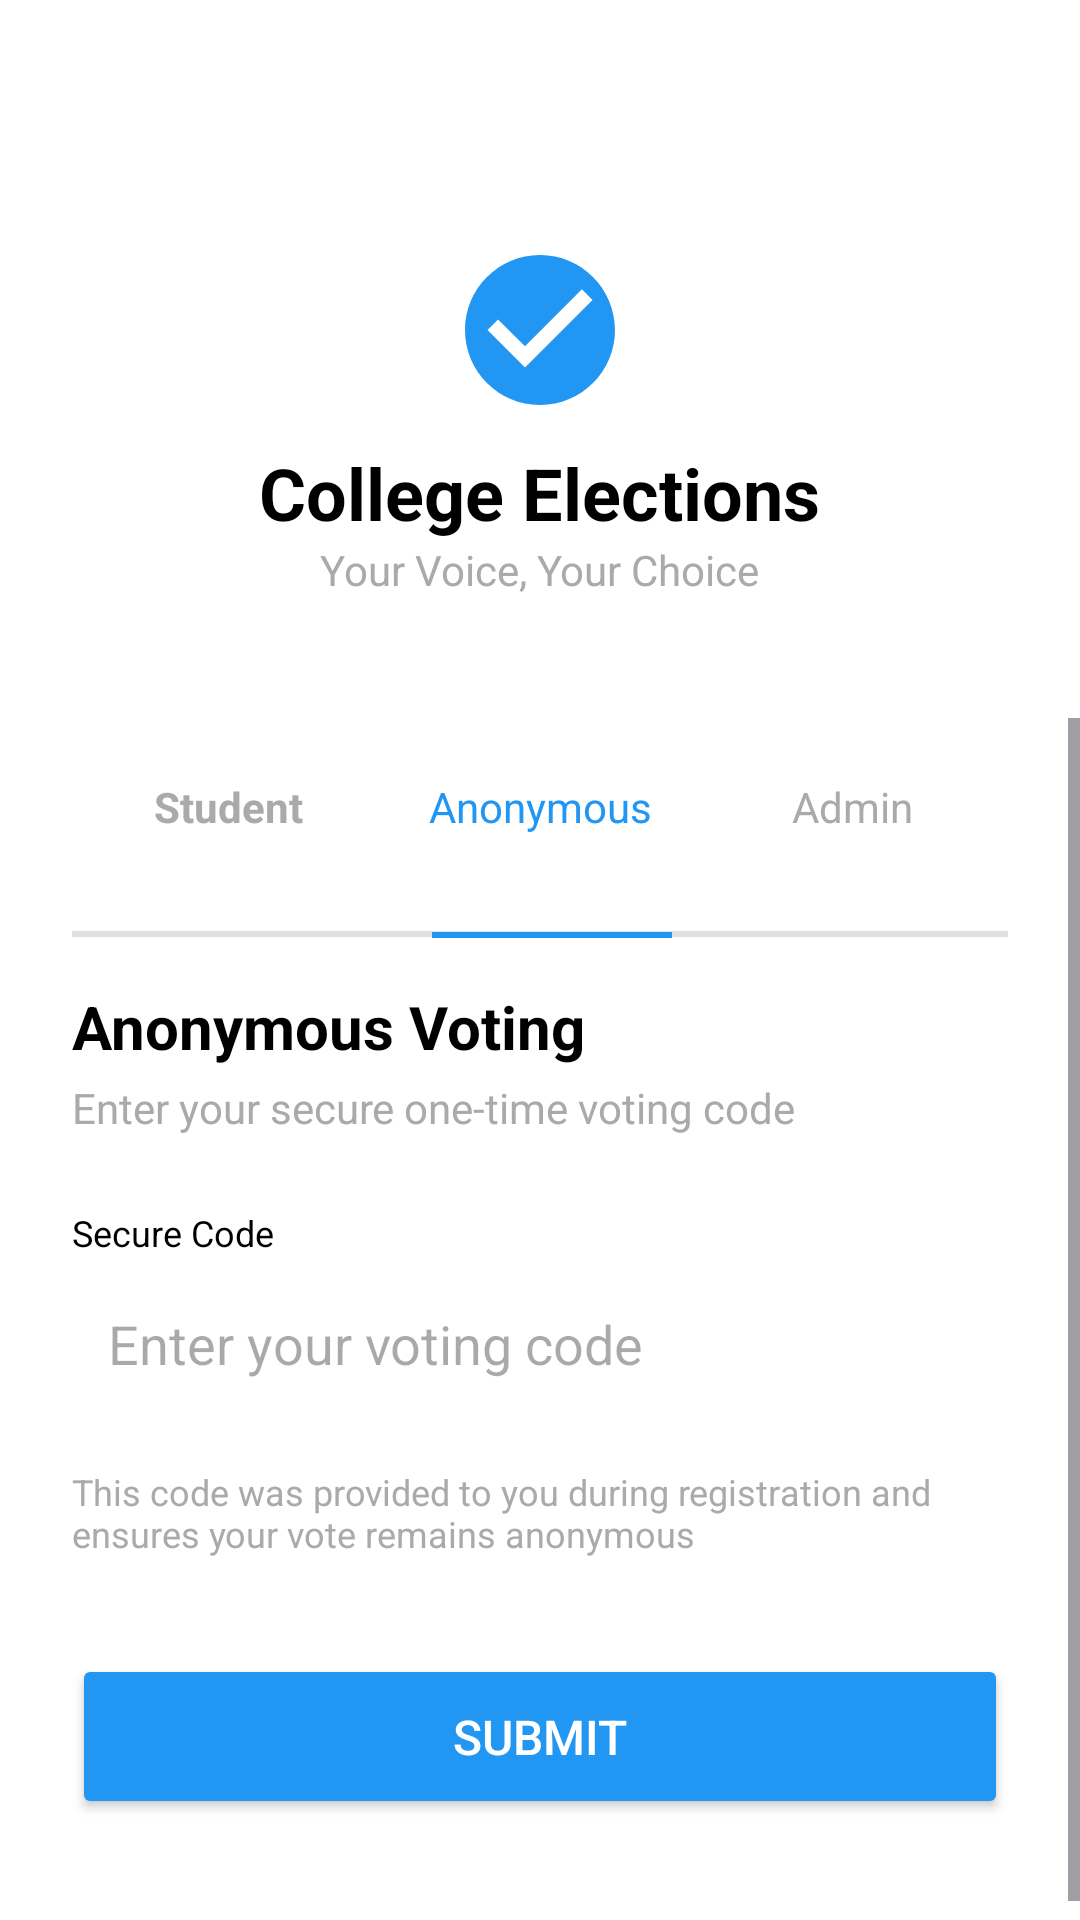

Named icons in this screenshot (1080px x 1920px) and their centers, (x,y):
check circle: (540,330)
